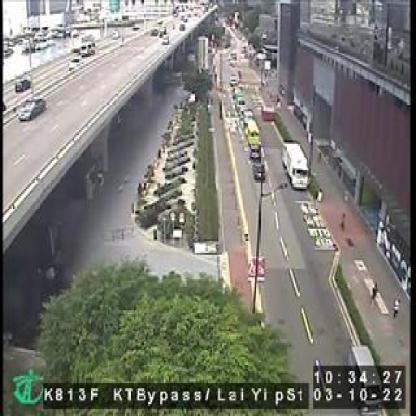Bus: (243, 120, 260, 147)
Car: (19, 93, 43, 119), (14, 74, 29, 92), (254, 163, 265, 177), (70, 55, 82, 66)
Truck: (281, 140, 308, 191)
